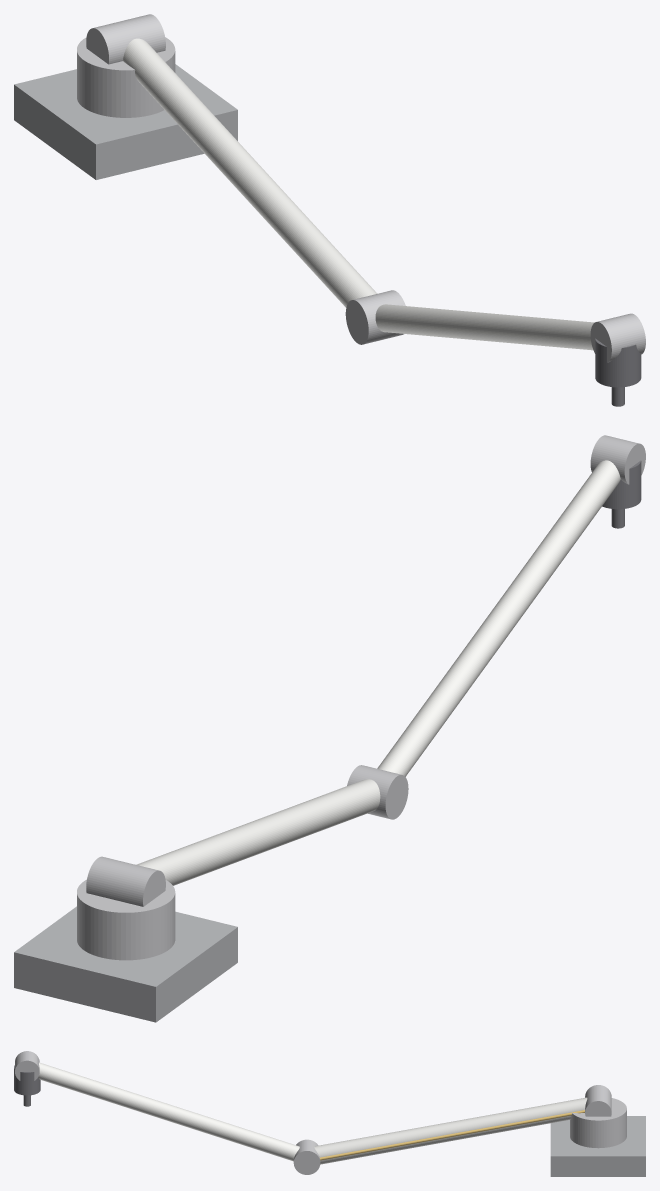
File: rover30_robotic_arm_m_deployed.glb
3 views of the same model, one above another, from view 1: azimuth 30°, elevation 25°; view 2: azimuth 150°, elevation 25°; view 3: azimuth 270°, elevation 25° (orthographic). The views are drawn at different scales.
Visible parts, largest first — view 1: base, arm_link1, arm_turret, arm_link2, arm_tool, arm_elbow, arm_wrist; view 2: base, arm_link2, arm_turret, arm_link1, arm_elbow, arm_wrist, arm_tool; view 3: arm_link1, arm_link2, base, arm_turret, arm_cable, arm_elbow, arm_tool, arm_wrist.
Boxes of the visible parts, <box> form: base: <box>14,64,237,179</box>; arm_link1: <box>123,38,377,307</box>; arm_turret: <box>77,14,175,117</box>; arm_link2: <box>375,304,594,350</box>; arm_tool: <box>595,338,641,406</box>; arm_elbow: <box>345,290,405,344</box>; arm_wrist: <box>590,313,645,362</box>; base: <box>14,906,237,1022</box>; arm_link2: <box>377,460,620,776</box>; arm_turret: <box>77,856,175,960</box>; arm_link1: <box>136,779,380,885</box>; arm_elbow: <box>347,765,408,819</box>; arm_wrist: <box>590,435,645,484</box>; arm_tool: <box>602,460,641,528</box>; arm_link1: <box>314,1097,587,1164</box>; arm_link2: <box>38,1062,299,1161</box>; base: <box>550,1116,645,1176</box>; arm_turret: <box>570,1085,626,1148</box>; arm_cable: <box>320,1110,584,1160</box>; arm_elbow: <box>293,1139,320,1174</box>; arm_tool: <box>14,1065,40,1106</box>; arm_wrist: <box>15,1051,39,1080</box>.
Bounding box in the file's own units: 0.5 × 0.6579 × 3.32.
